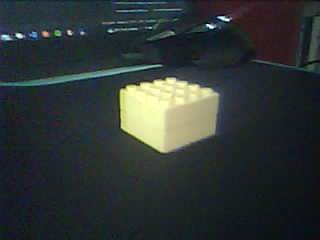lego: (119, 77, 219, 154)
